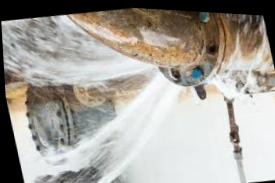leak: (1, 13, 269, 183)
